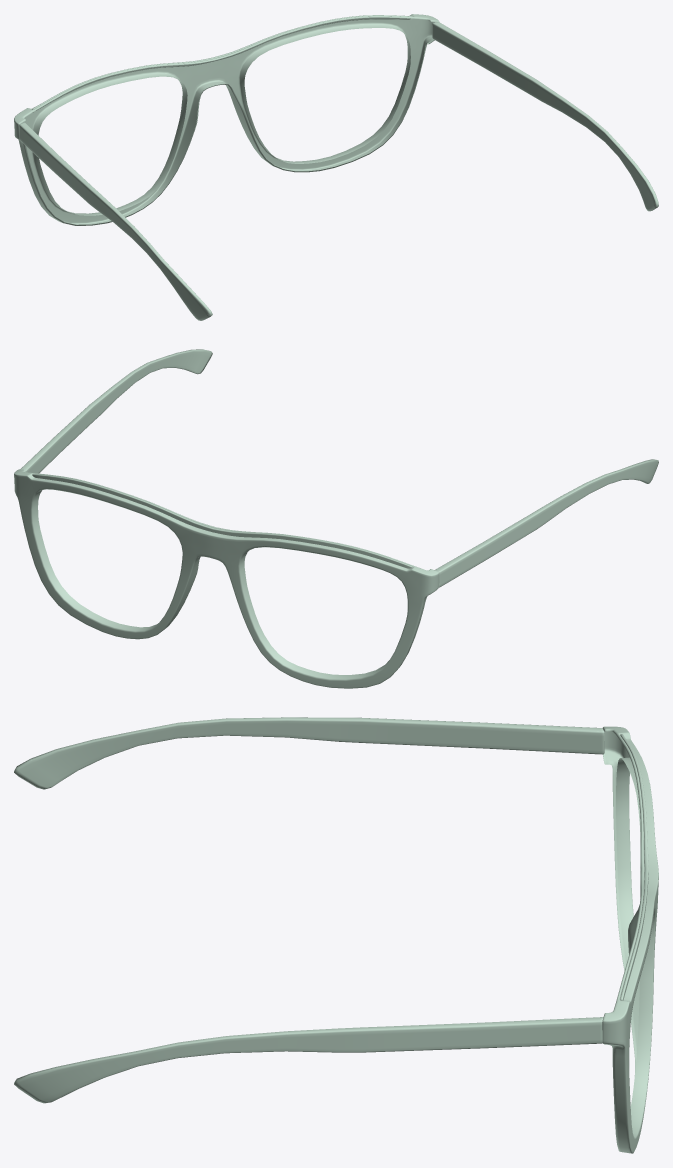
Rendered from sunglass_aero_blue.fbx.
The picture shows the model from 3 angles, top to bottom: view 1: azimuth 30°, elevation 25°; view 2: azimuth 150°, elevation 25°; view 3: azimuth 270°, elevation 25°; orthographic projection. The views are drawn at different scales.
Parts seen in each view (by area): view 1: am_body.001; view 2: am_body.001; view 3: am_body.001.
Boxes of the visible parts, x1,y1,x2,y2 form: am_body.001: (14,14,658,320); am_body.001: (14,349,658,688); am_body.001: (14,717,658,1153).
Size of the model in its own units: 16.26 by 4.9 by 13.72.
